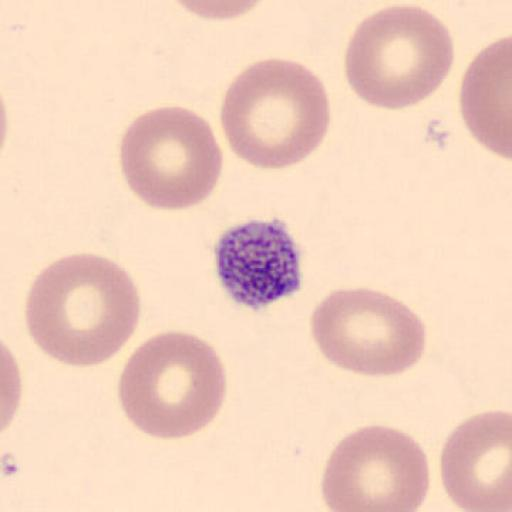Platelet: (211, 216, 307, 312)
RBC: (23, 252, 142, 369), (218, 56, 332, 171), (116, 328, 228, 442), (343, 2, 455, 112), (117, 104, 224, 212), (309, 285, 428, 378), (320, 421, 431, 512), (439, 408, 512, 512), (458, 33, 512, 164), (166, 0, 271, 23), (1, 338, 22, 438)
